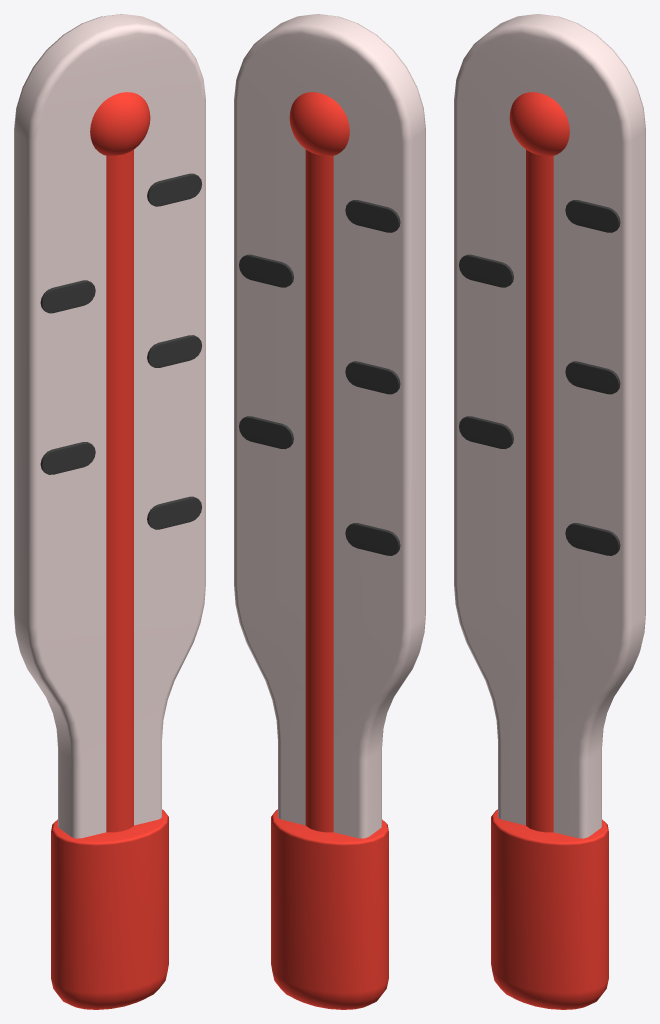
Rendered from Public_3_Thermomete_1.glb.
3 views of the same model, side by side, from view 1: azimuth 30°, elevation 25°; view 2: azimuth 150°, elevation 25°; view 3: azimuth 330°, elevation 25° (orthographic).
Parts seen in each view (by area): view 1: Public_3_Thermomete_1; view 2: Public_3_Thermomete_1; view 3: Public_3_Thermomete_1.
Part boxes in pixels (x1,y1,x2,y2): Public_3_Thermomete_1: (14, 14, 205, 1009); Public_3_Thermomete_1: (234, 14, 425, 1009); Public_3_Thermomete_1: (454, 14, 645, 1009).
Bounding box in the file's own units: 0.8019 × 4.21 × 0.3677.
1 material, 1 textured.
